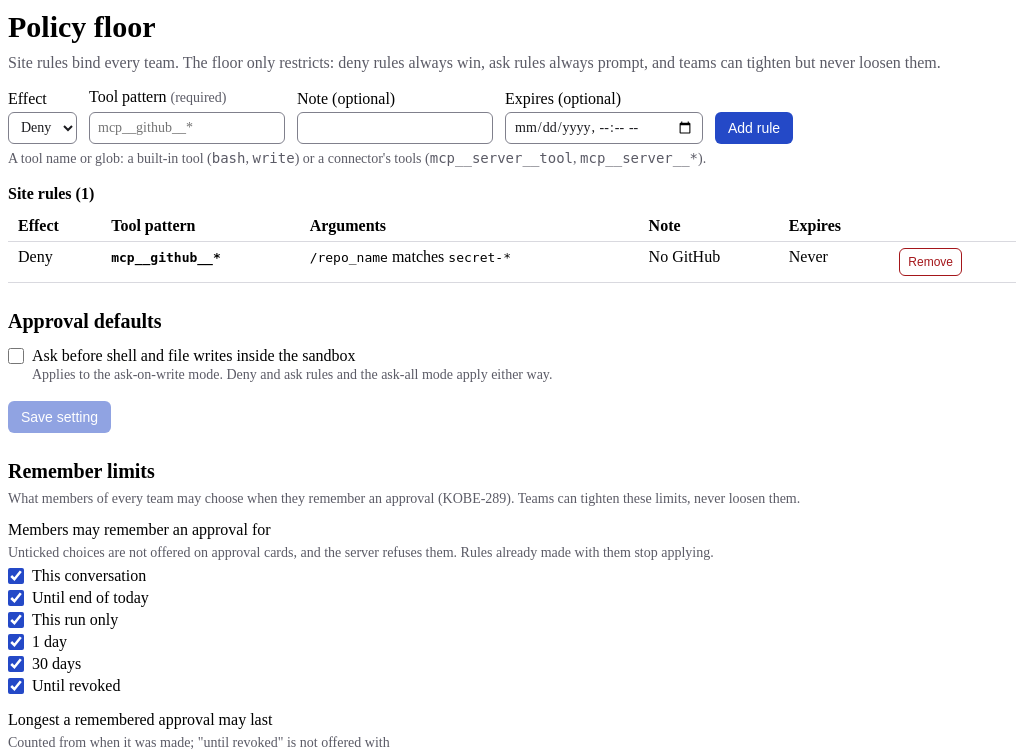
Site policy floor › saves the sandbox-writes switch
The image size is (1024, 755).
Click the checkbox labelled "Ask before shell and file writes inside the sandbox" at {"x": 16, "y": 356}, box [8, 348, 24, 364]
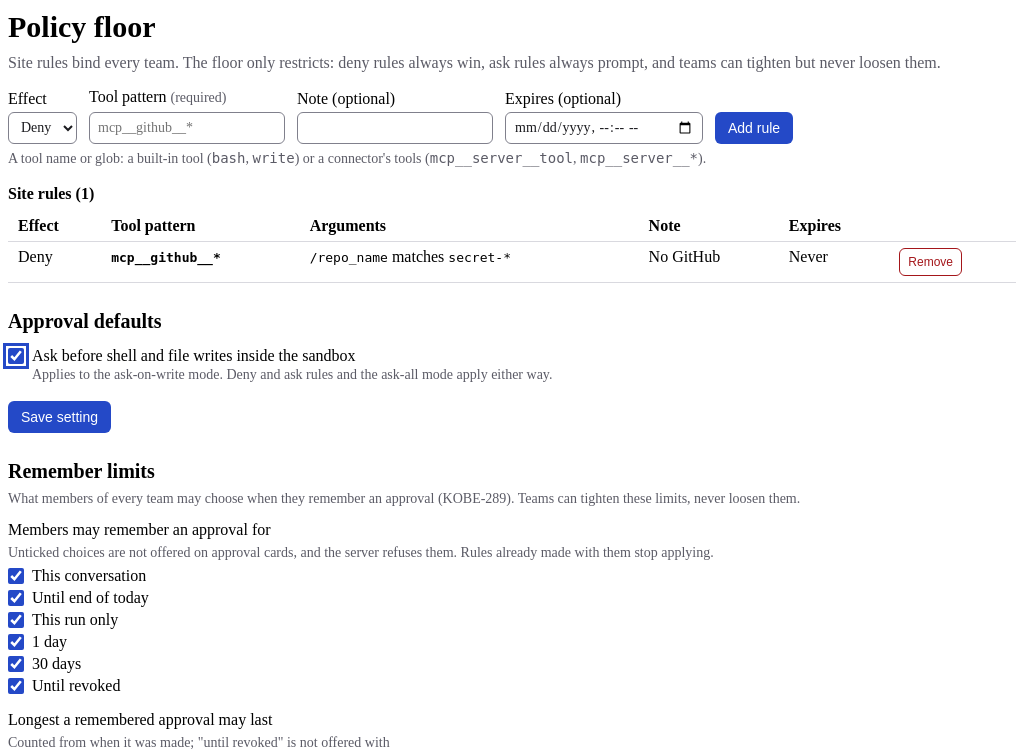
Click the button "Save setting" at {"x": 60, "y": 416}, box [8, 400, 111, 432]
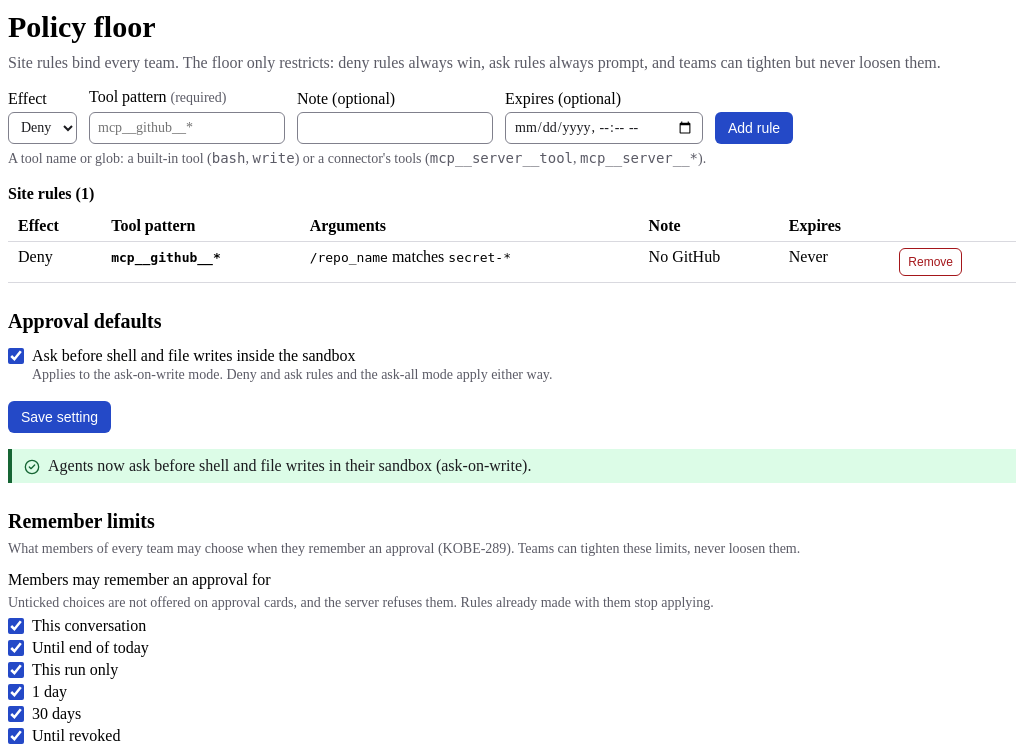
Result: the text "now ask" is shown at [48, 456, 531, 474]
